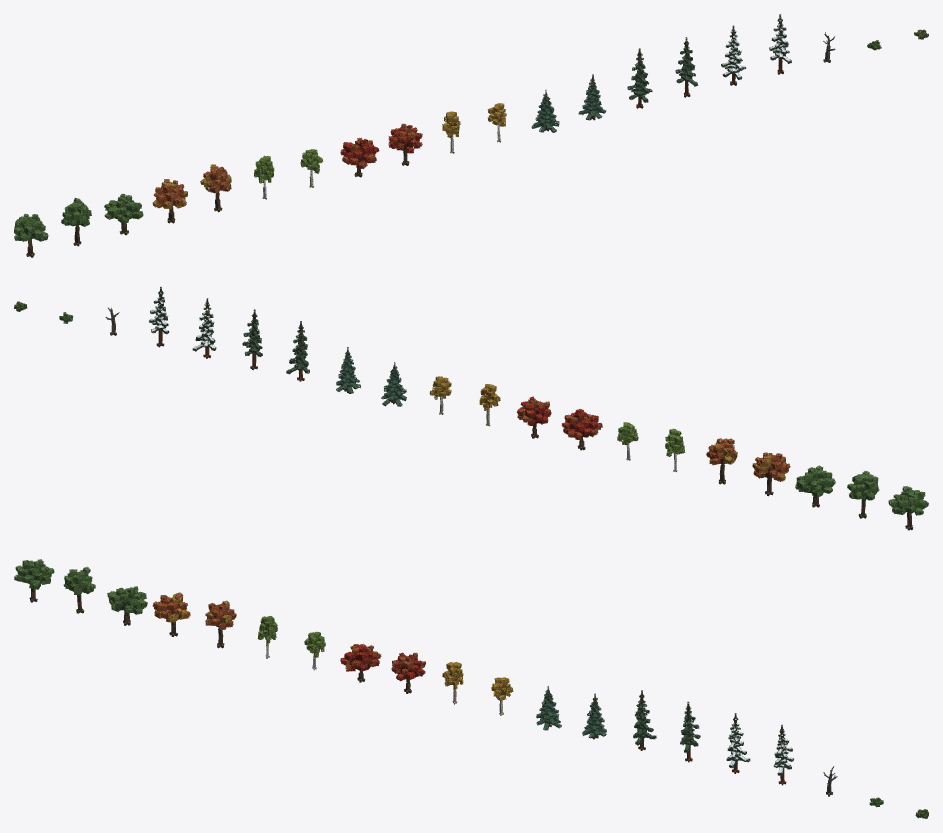
File: trees.gltf
3 renders of one model, top to bottom at view 1: azimuth 30°, elevation 25°; view 2: azimuth 150°, elevation 25°; view 3: azimuth 330°, elevation 25°, orthographic.
Size of the model in its own units: 195 by 12.13 by 7.84.
1 material, 1 textured.
